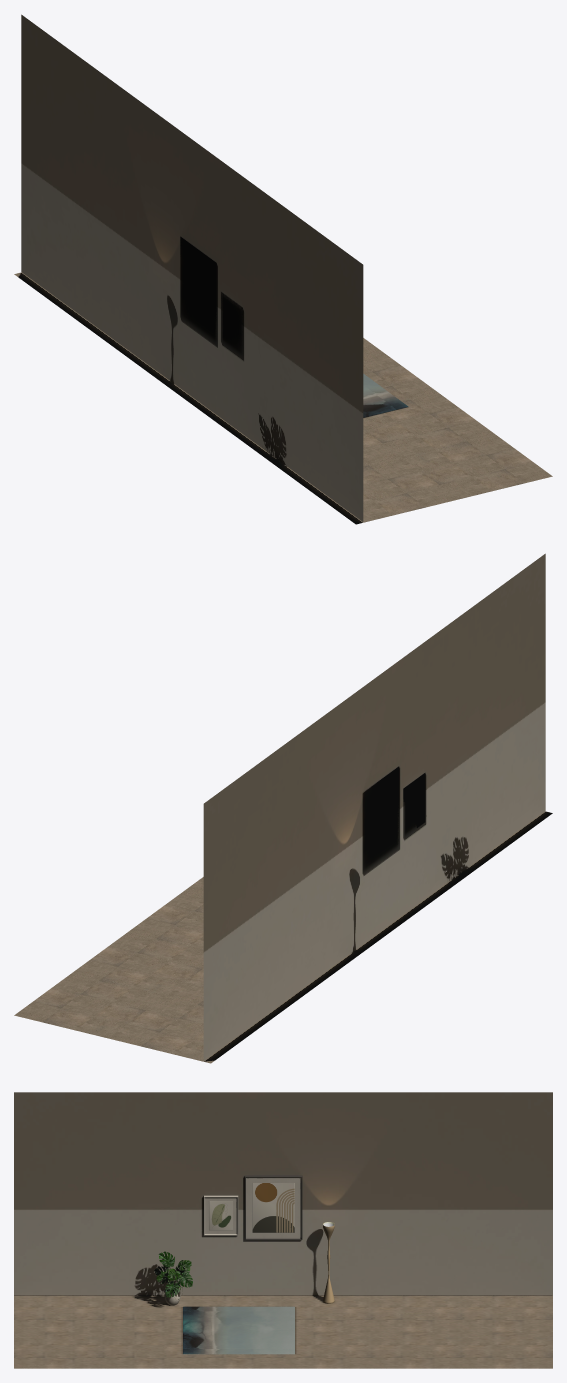
The model's file is 1_ambiente_bake.glb.
3 renders of one model, top to bottom at view 1: azimuth 30°, elevation 25°; view 2: azimuth 150°, elevation 25°; view 3: azimuth 270°, elevation 25°, orthographic. The views are drawn at different scales.
Visible parts, largest first — view 1: Piano_1, Piano, Quadro_1, Cubo; view 2: Piano_1, Piano, Quadro_2, Quadro_1; view 3: Piano_1, Piano, Cubo, Quadro_1, Quadro_2, plant_115_01_1, 1330_alta.
Part boxes in pixels (x1,y1,x2,y2): Piano_1: (21, 14, 363, 521); Piano: (14, 272, 552, 524); Quadro_1: (180, 236, 216, 336); Cubo: (363, 374, 408, 417); Piano_1: (203, 553, 545, 1060); Piano: (14, 811, 552, 1063); Quadro_2: (403, 773, 425, 827); Quadro_1: (371, 766, 398, 844); Piano_1: (14, 1092, 552, 1295); Piano: (14, 1295, 552, 1368); Cubo: (183, 1306, 294, 1354); Quadro_1: (245, 1175, 302, 1239); Quadro_2: (204, 1195, 238, 1235); plant_115_01_1: (154, 1251, 192, 1305); 1330_alta: (323, 1222, 334, 1303).
Size of the model in its own units: 4 by 5.01 by 12.03.
7 materials, 7 textured.
